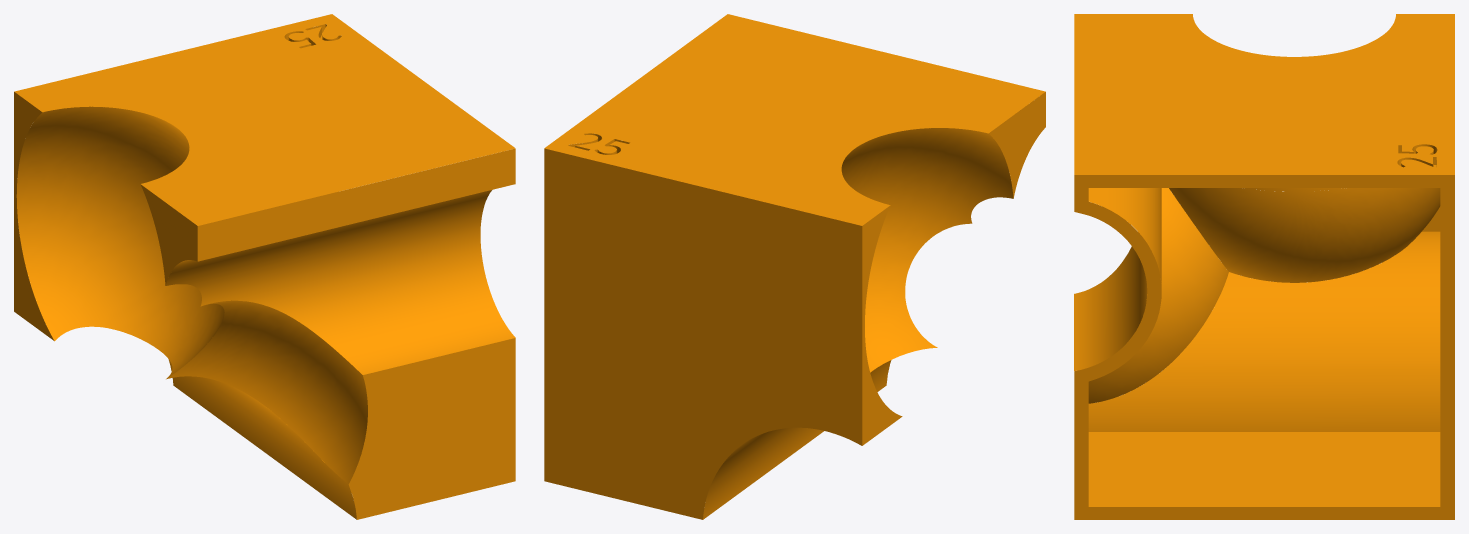
The picture shows the model from 3 angles, left to right: view 1: azimuth 30°, elevation 25°; view 2: azimuth 150°, elevation 25°; view 3: azimuth 270°, elevation 25°; orthographic projection. The views are drawn at different scales.
Parts seen in each view (by area): view 1: Layer 04; view 2: Layer 04; view 3: Layer 04.
Part boxes in pixels (bbox=[...]): Layer 04: bbox=[14, 14, 515, 519]; Layer 04: bbox=[544, 14, 1045, 519]; Layer 04: bbox=[1074, 14, 1454, 519].
Bounding box in the file's own units: 0.042 × 0.042 × 0.042.
